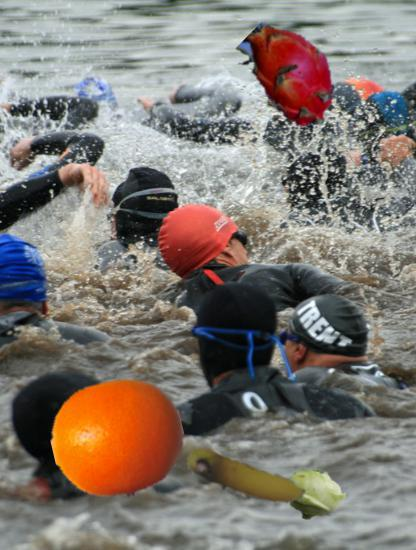Banana: (182, 418, 306, 542)
Grapefruit: (52, 374, 185, 507)
Kohlrabi: (284, 464, 346, 526)
Pitahaya: (234, 16, 349, 131)
